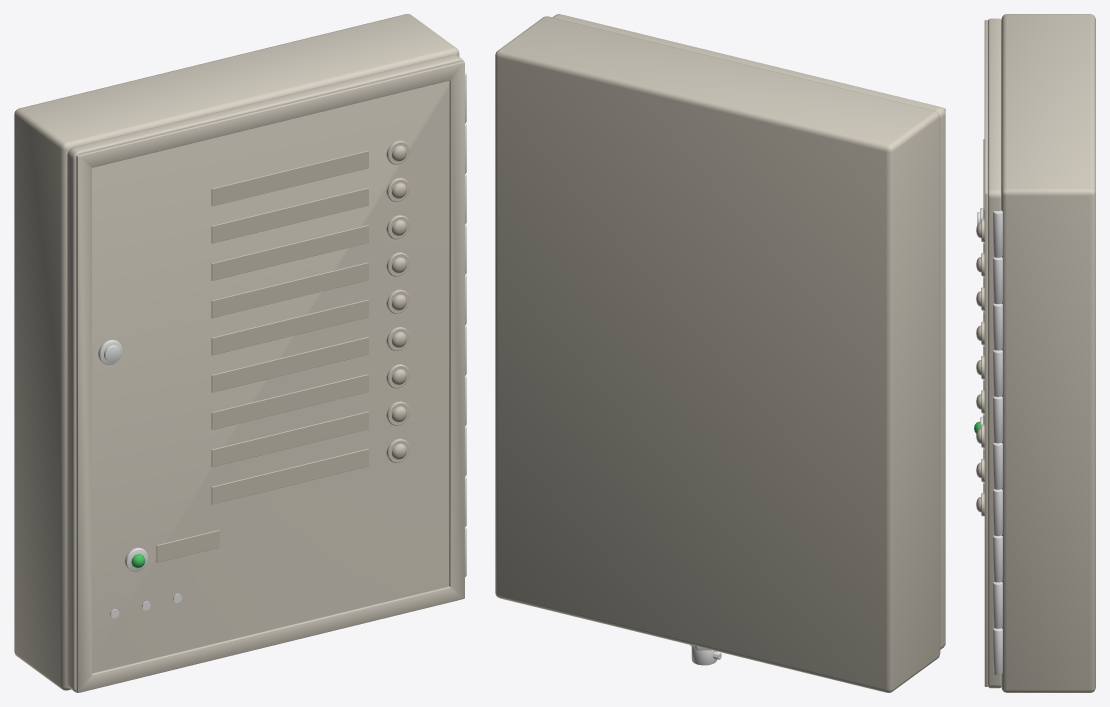
File: Kit_FireAnnunciator.fbx
3 views of the same model, side by side, from view 1: azimuth 30°, elevation 25°; view 2: azimuth 150°, elevation 25°; view 3: azimuth 270°, elevation 25° (orthographic). The views are drawn at different scales.
Visible parts, largest first — view 1: Kit_FireAnnunciator_LOD0; view 2: Kit_FireAnnunciator_LOD0; view 3: Kit_FireAnnunciator_LOD0.
Boxes of the visible parts, left/top/right/bottom form: Kit_FireAnnunciator_LOD0: left=14, top=14, right=466, bottom=692; Kit_FireAnnunciator_LOD0: left=495, top=14, right=945, bottom=692; Kit_FireAnnunciator_LOD0: left=974, top=14, right=1095, bottom=692.
Size of what is drawn, in the model's own units: 0.3825 by 0.52 by 0.1096.
